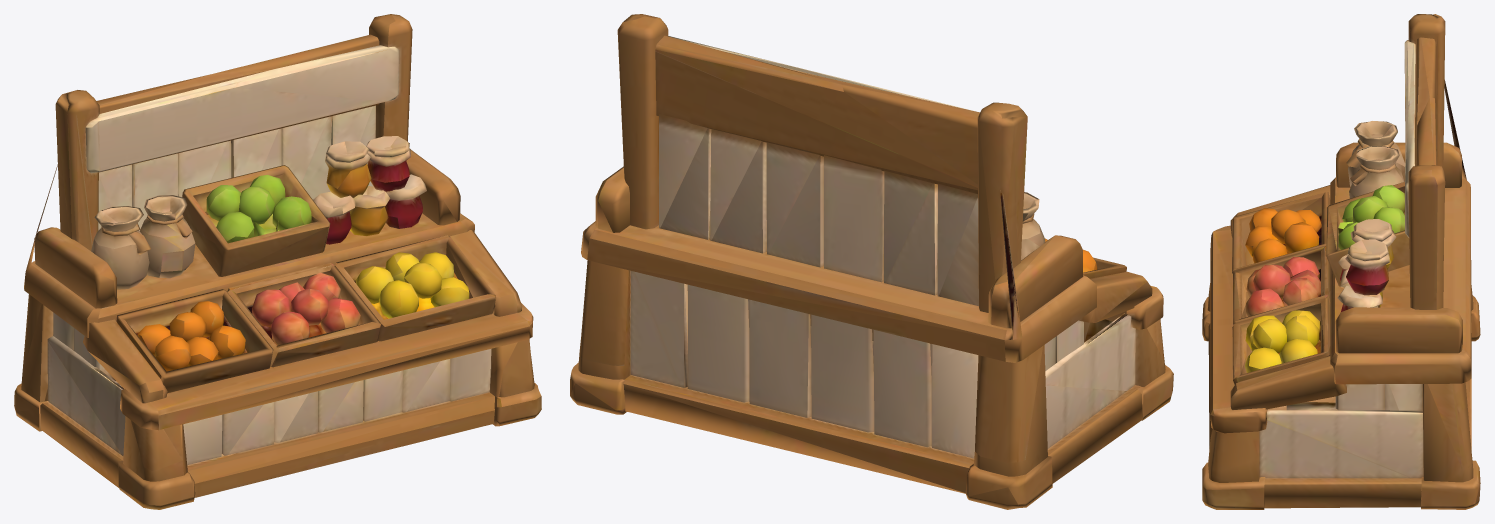
File: trade_stand.glb
3 views of the same model, side by side, from view 1: azimuth 30°, elevation 25°; view 2: azimuth 150°, elevation 25°; view 3: azimuth 270°, elevation 25° (orthographic). The views are drawn at different scales.
Size of the model in its own units: 1 by 0.7852 by 0.6152.
1 material, 1 textured.
